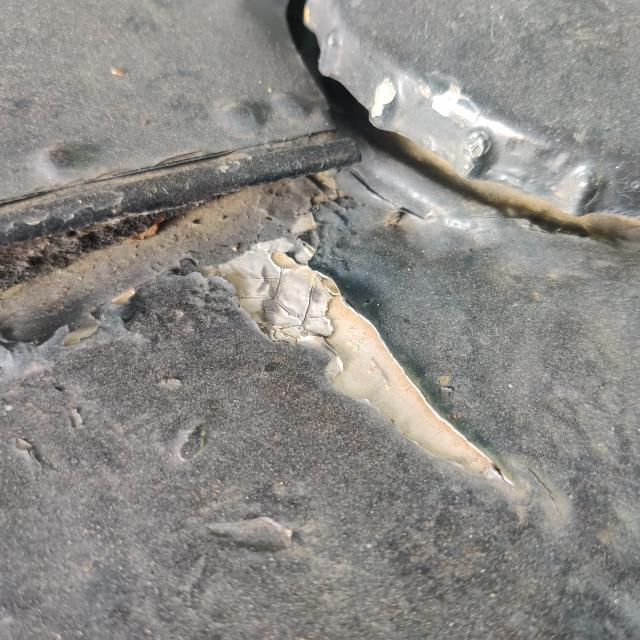paint-off: (198, 226, 536, 510)
